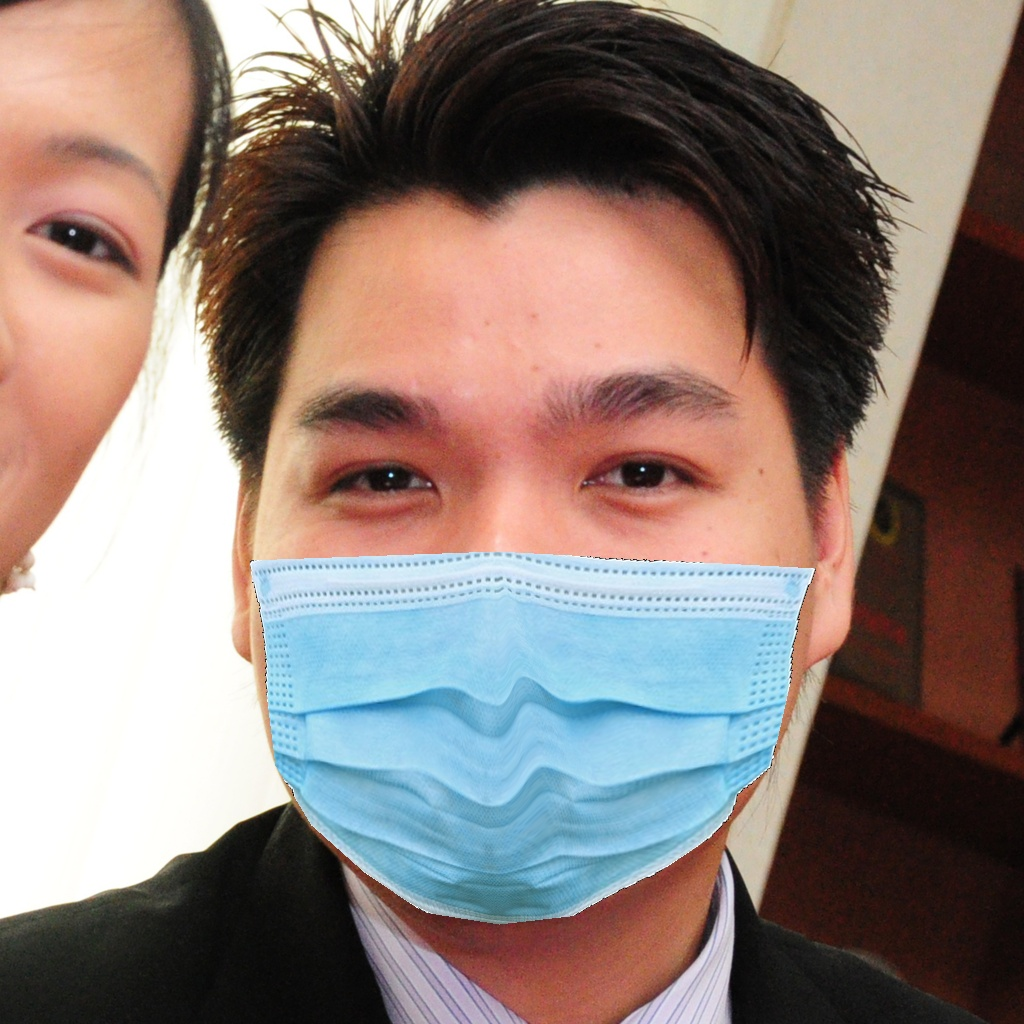Mask: (244, 343, 810, 925)
